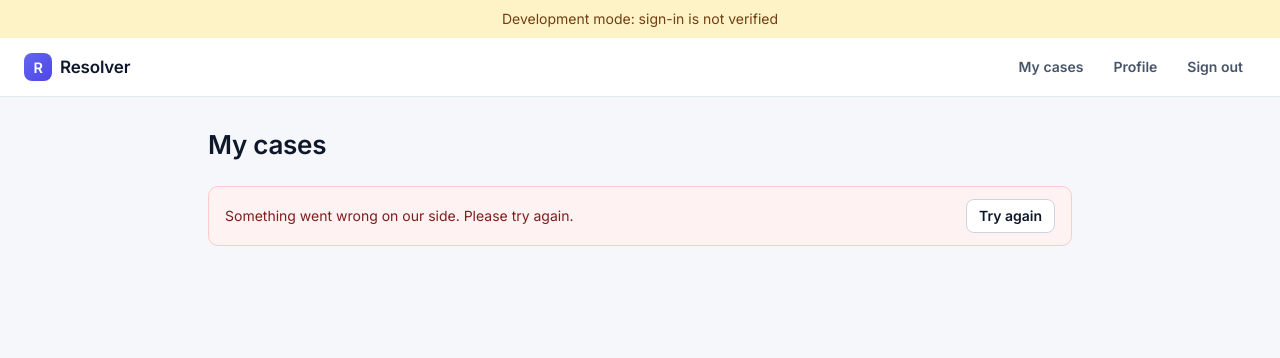
My cases › maps errors to friendly text with a retry
Expected: the text "Something went wrong on our side. Please try again." is shown, [225, 205, 574, 227]
Click the button "Try again": (1010, 216) [966, 199, 1055, 233]
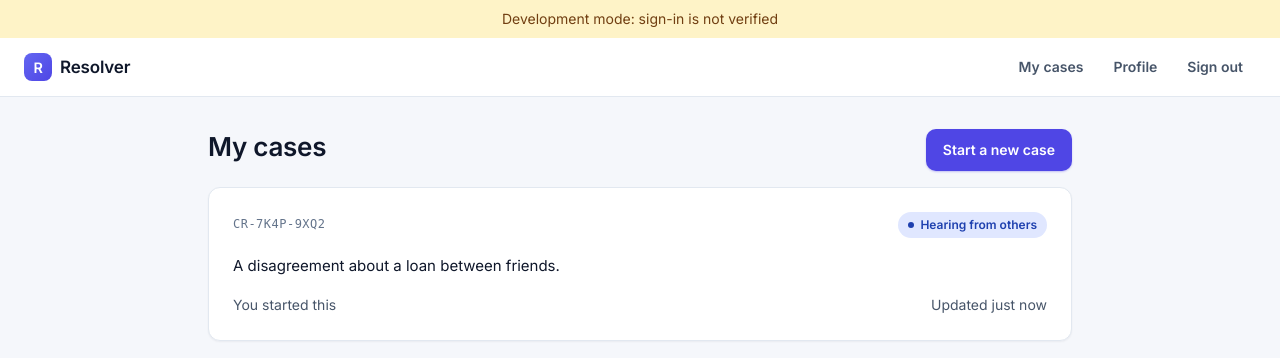
Expected: the text "A disagreement about a loan between friends." is shown, [233, 256, 560, 275]
